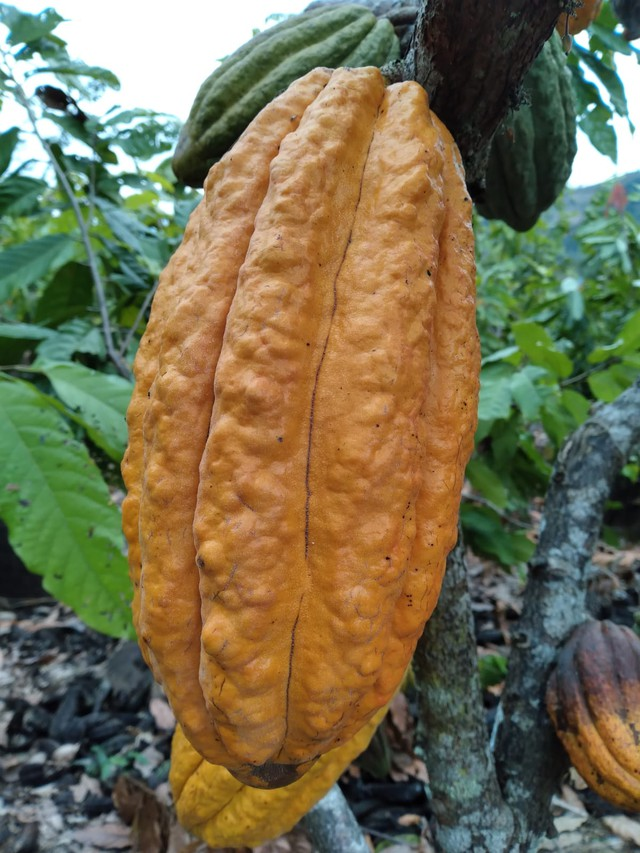Health: (114, 60, 496, 795)
